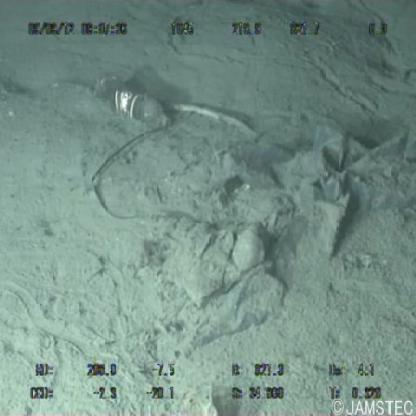Rác: (93, 88, 175, 134)
